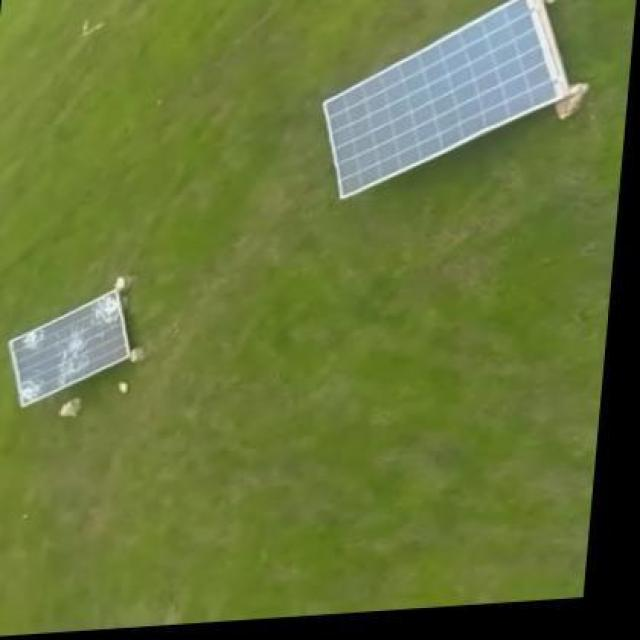cracked: (10, 290, 136, 408)
